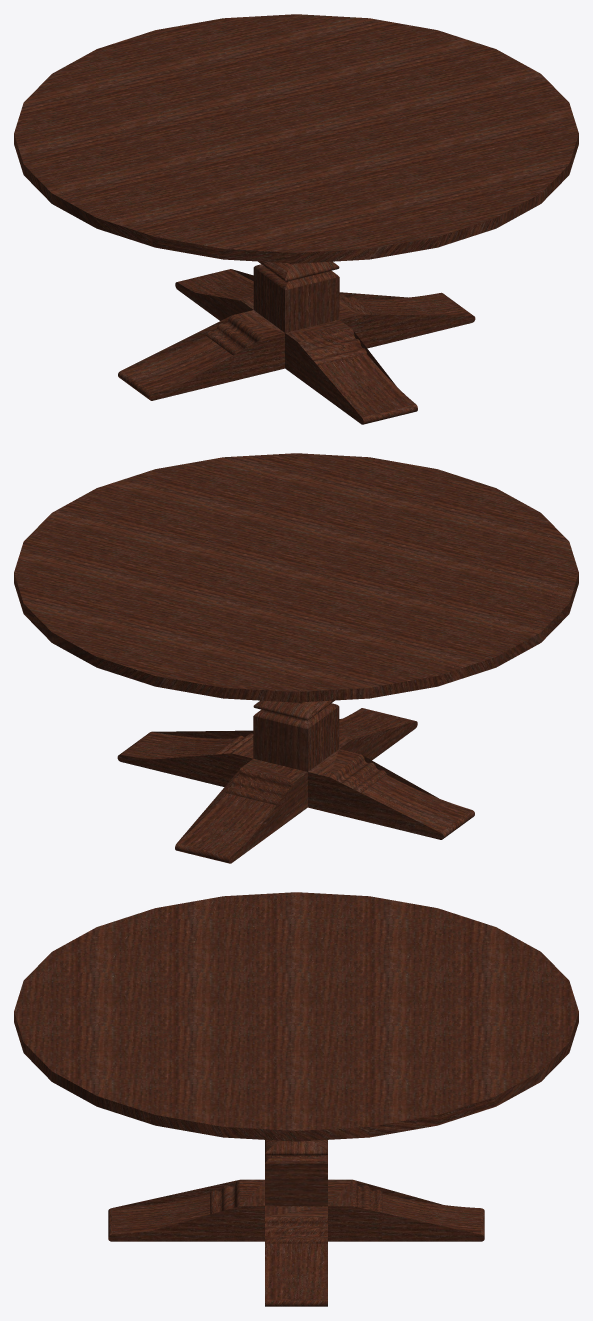
The model's file is JamesICircularDiningTable.fbx.
The picture shows the model from 3 angles, top to bottom: view 1: azimuth 30°, elevation 25°; view 2: azimuth 150°, elevation 25°; view 3: azimuth 270°, elevation 25°; orthographic projection.
Visible parts, largest first — view 1: Group1, Group2; view 2: Group1, Group2; view 3: Group1, Group2.
Boxes of the visible parts, x1,y1,x2,y2 form: Group1: (14,14,578,263); Group2: (118,261,475,424); Group1: (14,453,578,702); Group2: (117,700,474,863); Group1: (14,892,578,1141); Group2: (108,1140,484,1306).
Size of the model in its own units: 72 by 30.5 by 72.
